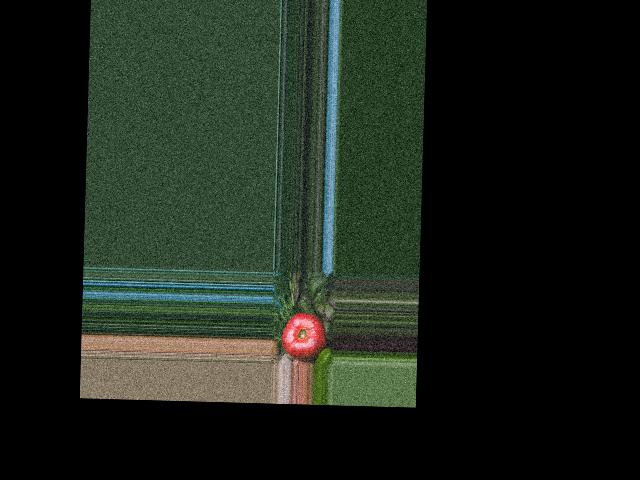tomato: (281, 312, 328, 362)
